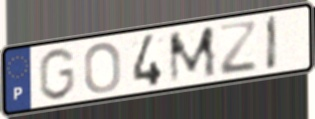4: (131, 32, 165, 89)
G: (37, 47, 78, 103)
I: (265, 13, 280, 73)
M: (167, 24, 219, 86)
O: (82, 40, 123, 95)
Z: (217, 20, 259, 78)
